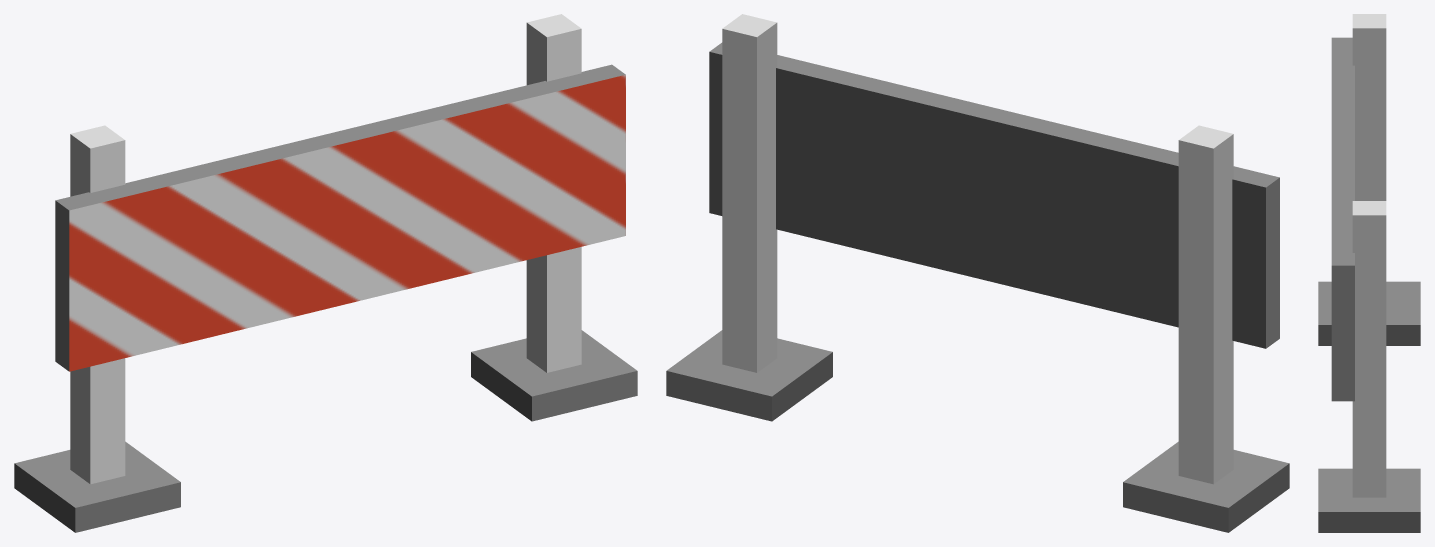
Rendered from Barrier_FromMaya.fbx.
The picture shows the model from 3 angles, left to right: view 1: azimuth 30°, elevation 25°; view 2: azimuth 150°, elevation 25°; view 3: azimuth 270°, elevation 25°; orthographic projection. The views are drawn at different scales.
Parts seen in each view (by area): view 1: Prop_Barrier02; view 2: Prop_Barrier02; view 3: Prop_Barrier02.
Boxes of the visible parts, x1,y1,x2,y2 form: Prop_Barrier02: (14,14,637,532); Prop_Barrier02: (666,14,1289,532); Prop_Barrier02: (1318,14,1420,532).
Size of the model in its own units: 311 by 191 by 58.53.
1 material, 1 textured.
